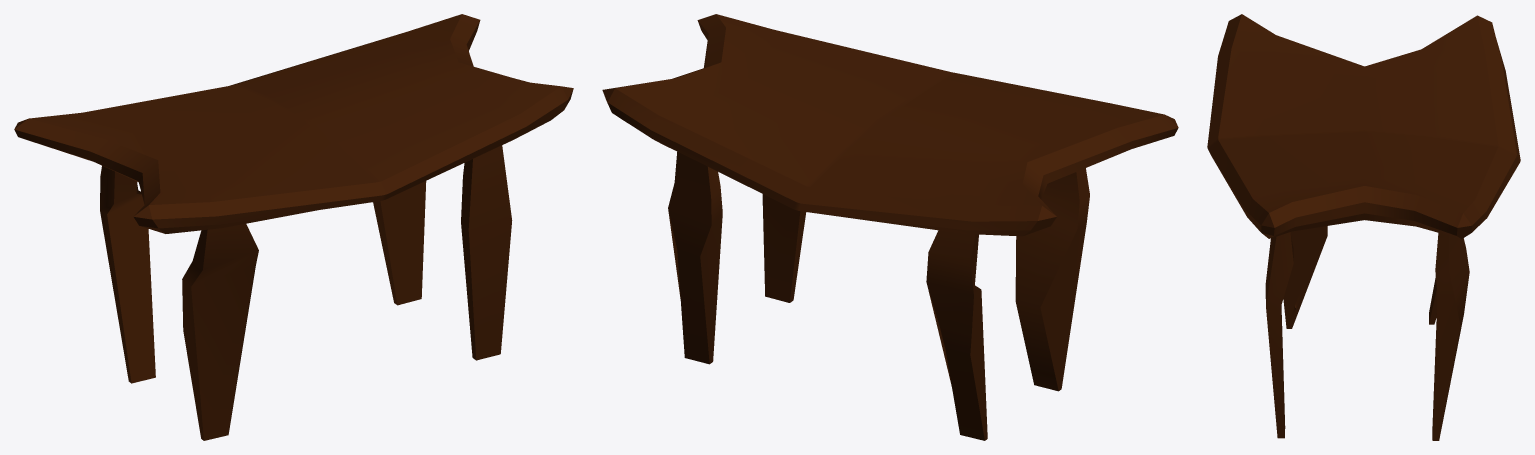
Rendered from TABLE2.fbx.
The picture shows the model from 3 angles, left to right: view 1: azimuth 30°, elevation 25°; view 2: azimuth 150°, elevation 25°; view 3: azimuth 270°, elevation 25°; orthographic projection. The views are drawn at different scales.
Parts seen in each view (by area): view 1: pCube29; view 2: pCube29; view 3: pCube29.
Part boxes in pixels (left/top/right/bottom): pCube29: left=14, top=14, right=573, bottom=440; pCube29: left=602, top=14, right=1178, bottom=440; pCube29: left=1207, top=14, right=1520, bottom=440.
Bounding box in the file's own units: 88.01 × 51.24 × 53.45.
